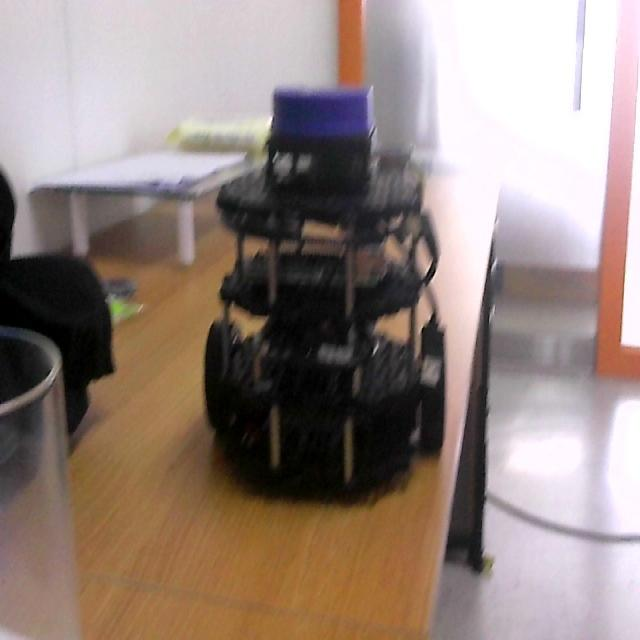turtle: (204, 83, 448, 510)
